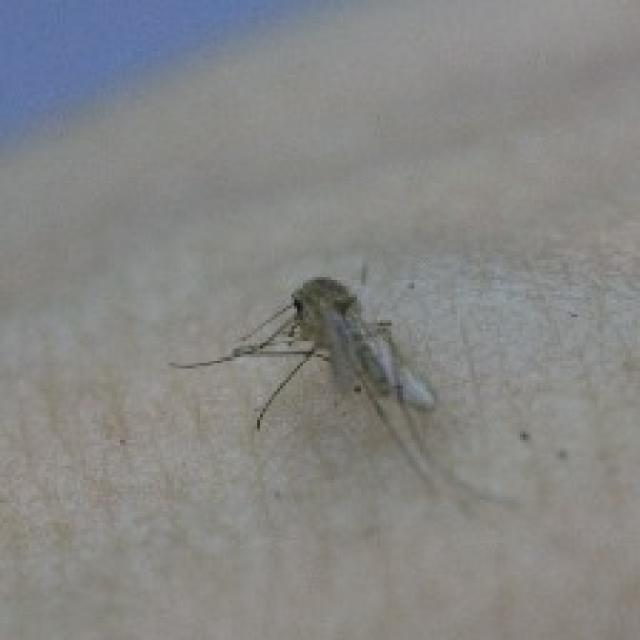culex: (166, 260, 517, 514)
